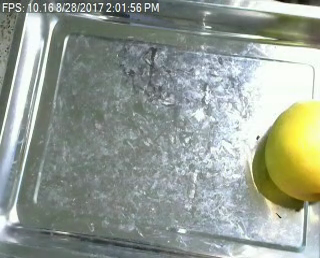Mango: (261, 102, 320, 203)
